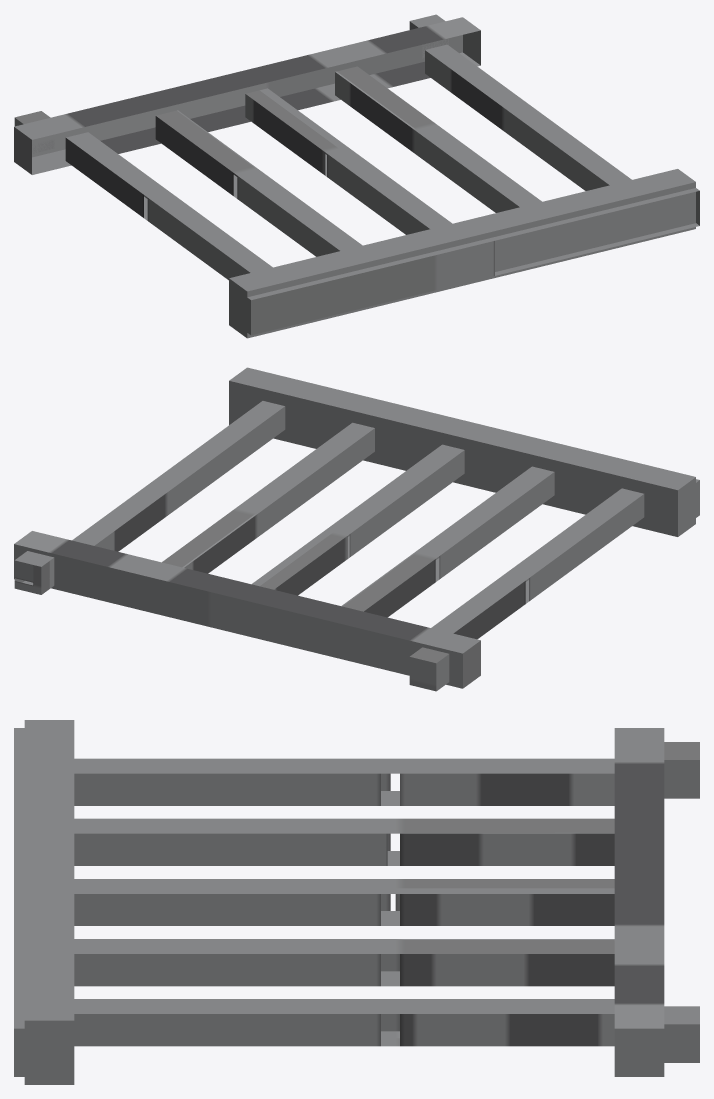
3 views of the same model, one above another, from view 1: azimuth 30°, elevation 25°; view 2: azimuth 150°, elevation 25°; view 3: azimuth 270°, elevation 25° (orthographic). The views are drawn at different scales.
Bounding box in the file's own units: 1 × 0.1 × 0.965.
